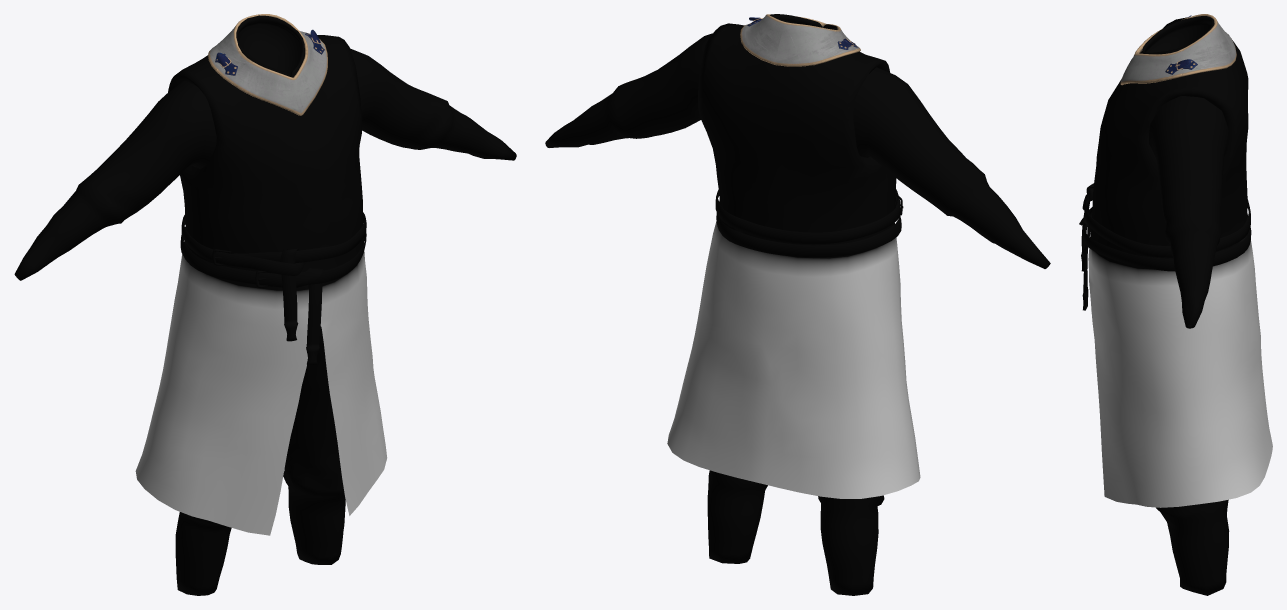
The model's file is swan_knight_armor_tabard2_t1_slim.fbx.
3 views of the same model, side by side, from view 1: azimuth 30°, elevation 25°; view 2: azimuth 150°, elevation 25°; view 3: azimuth 270°, elevation 25° (orthographic). The views are drawn at different scales.
Parts seen in each view (by area): view 1: swan_knight_armor_tabard2_t1_slim.0, swan_knight_armor_tabard2_t1_slim.1; view 2: swan_knight_armor_tabard2_t1_slim.0, swan_knight_armor_tabard2_t1_slim.1; view 3: swan_knight_armor_tabard2_t1_slim.0, swan_knight_armor_tabard2_t1_slim.1.
Boxes of the visible parts, x1,y1,x2,y2 form: swan_knight_armor_tabard2_t1_slim.0: (14,15,516,595); swan_knight_armor_tabard2_t1_slim.1: (208,14,327,115); swan_knight_armor_tabard2_t1_slim.0: (545,14,1050,595); swan_knight_armor_tabard2_t1_slim.1: (740,14,860,66); swan_knight_armor_tabard2_t1_slim.0: (1079,16,1272,595); swan_knight_armor_tabard2_t1_slim.1: (1120,14,1236,85).
Size of the model in its own units: 1.3 by 0.4478 by 1.37.
